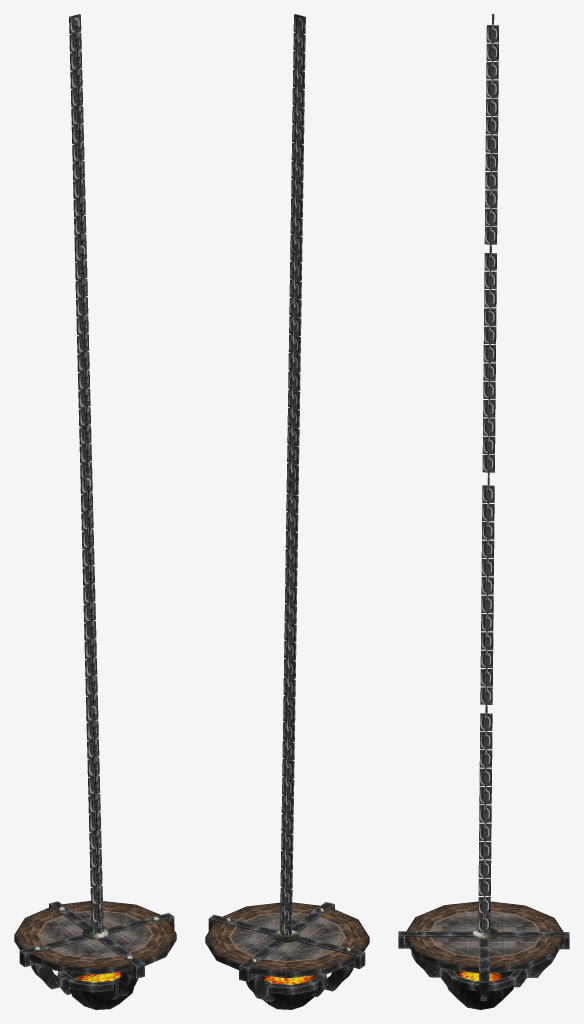
Rendered from INST_SM_SMALLCHANDELIER_ANIM.fbx.
3 renders of one model, left to right at view 1: azimuth 30°, elevation 25°; view 2: azimuth 150°, elevation 25°; view 3: azimuth 270°, elevation 25°, orthographic. The views are drawn at different scales.
Visible parts, largest first — view 1: INST_SM_SMALLCHANDELIER_ANIM; view 2: INST_SM_SMALLCHANDELIER_ANIM; view 3: INST_SM_SMALLCHANDELIER_ANIM.
Part boxes in pixels (x1,y1,x2,y2): INST_SM_SMALLCHANDELIER_ANIM: [14, 14, 176, 1009]; INST_SM_SMALLCHANDELIER_ANIM: [205, 14, 369, 1009]; INST_SM_SMALLCHANDELIER_ANIM: [398, 14, 569, 1009].
Size of the model in its own units: 42103 by 265982 by 42102.
Materials: 7 (7 with a texture image).
